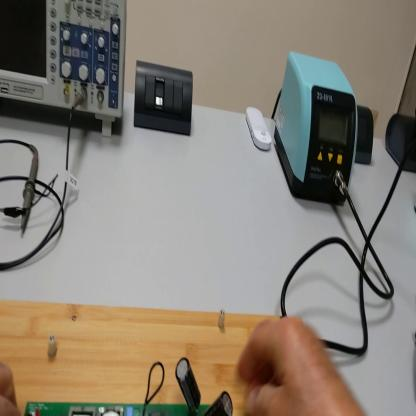hand: (237, 319, 369, 416), (2, 365, 23, 415)
high voltage board: (26, 360, 235, 416)
oscilloscope: (2, 2, 127, 139)
oscilloscope probe tip: (20, 148, 40, 236)
socket: (384, 108, 416, 175), (355, 106, 377, 168)
welder station: (276, 53, 359, 209)
working area: (1, 301, 269, 416)
